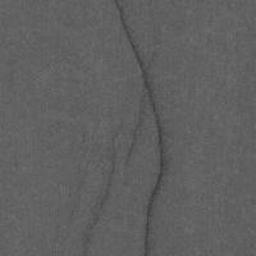Inclusion: (111, 0, 169, 256), (82, 111, 145, 246)
